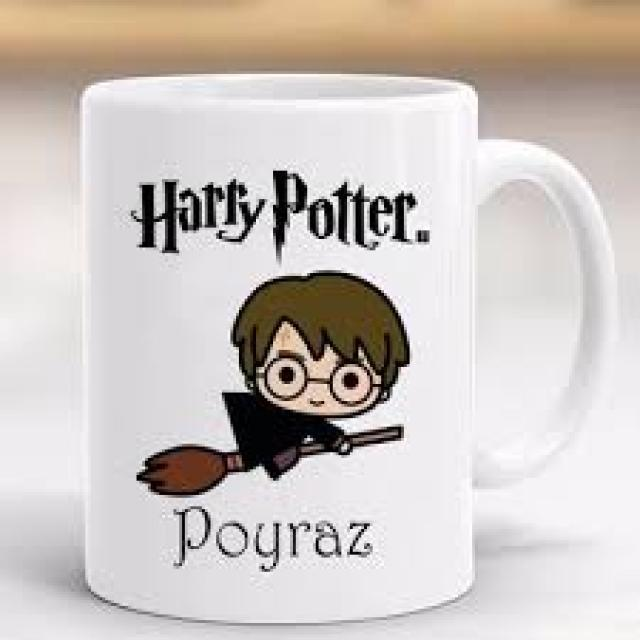taza: (80, 73, 616, 624)
